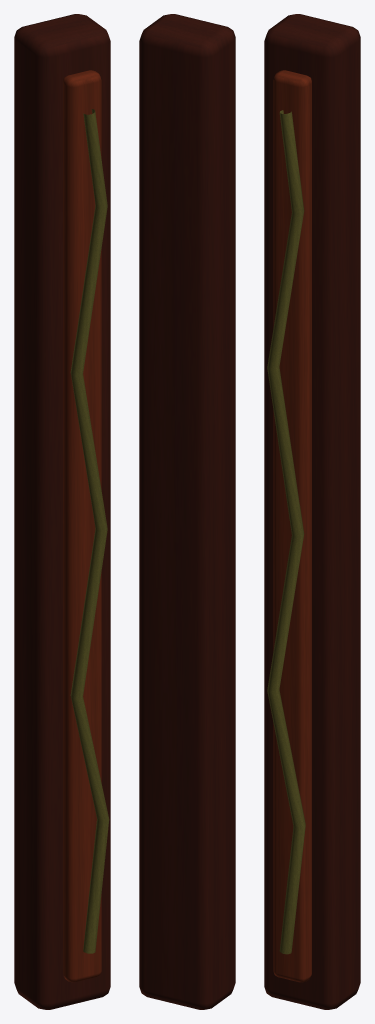
The model's file is 11_Modular_TallWallTrim.fbx.
The picture shows the model from 3 angles, left to right: view 1: azimuth 30°, elevation 25°; view 2: azimuth 150°, elevation 25°; view 3: azimuth 330°, elevation 25°; orthographic projection.
Parts seen in each view (by area): view 1: TallTrim_Main.001, TallTrim_Face.001, TallTrim_CarvedVine.001; view 2: TallTrim_Main.001; view 3: TallTrim_Main.001, TallTrim_Face.001, TallTrim_CarvedVine.001.
Boxes of the visible parts, box(x1,y1,x2,y2) form: TallTrim_Main.001: box(14, 14, 110, 1009); TallTrim_Face.001: box(63, 70, 101, 982); TallTrim_CarvedVine.001: box(70, 109, 109, 953); TallTrim_Main.001: box(139, 14, 235, 1009); TallTrim_Main.001: box(264, 14, 360, 1009); TallTrim_Face.001: box(273, 70, 311, 982); TallTrim_CarvedVine.001: box(267, 110, 305, 954).
Bounding box in the file's own units: 0.24 × 3 × 0.258.
3 materials, 3 textured.
